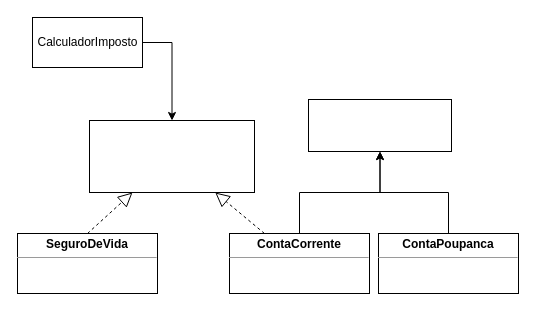
This 536x311 diagram has some shape labels left out. Each missing label, with the centre of its shape:
"Conta <<abstract>>" belongs at point (380, 125).
"Tributavel <<abstract>> + getValorImposto(): double" belongs at point (171, 156).
